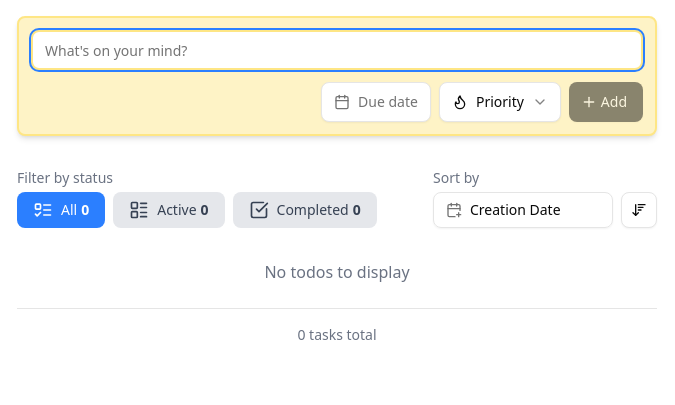
TodoContainer Component - Integration Tests › Filtering UI and Logic › should filter to show only active todos when Active button is clicked
The width and height of the screenshot is (675, 405).
Step 1. Type "Active Todo Item" into the field with placeholder "What's on your mind?" → (337, 50), box [31,30,643,70]
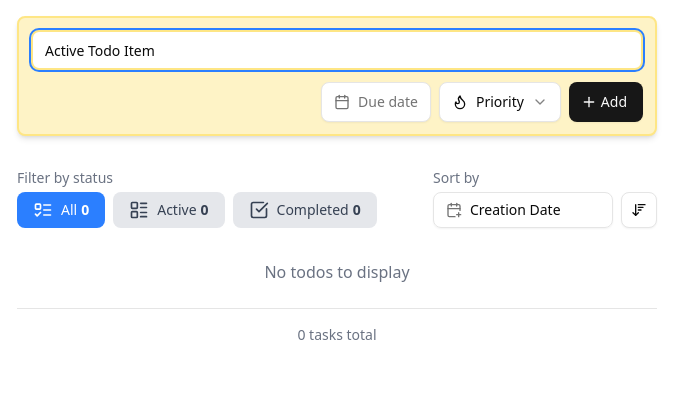
Step 2. Click the button "Add" → (606, 102), box [569,82,643,122]
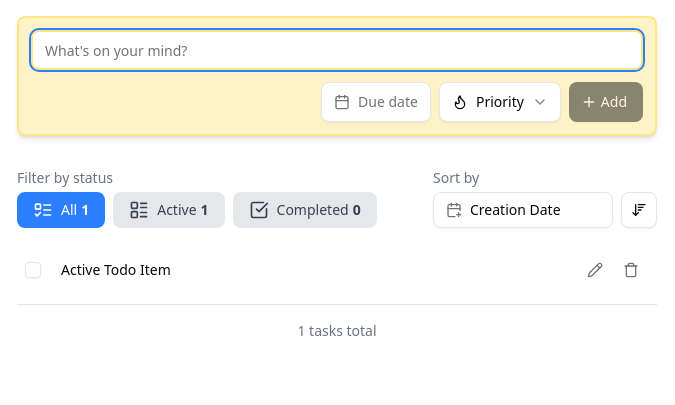
Expected: the text "Active Todo Item" is shown, [61,260,171,280]
Step 3. Type "Completed Todo Item" into the field with placeholder "What's on your mind?" → (337, 50), box [31,30,643,70]
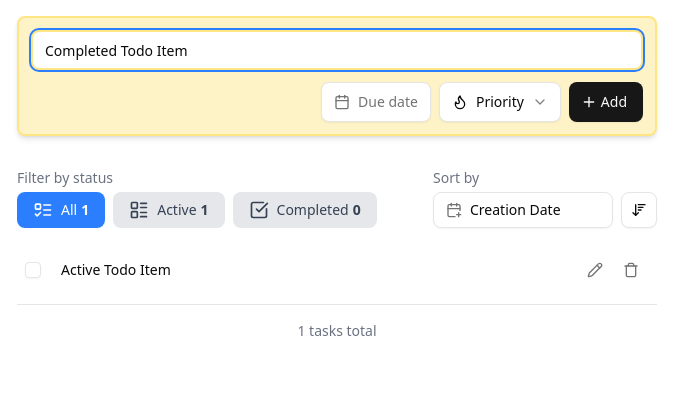
Step 4. Click the button "Add" → (606, 102), box [569,82,643,122]
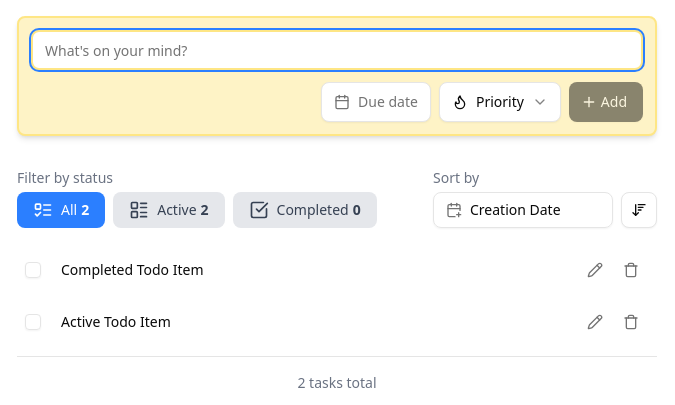
Step 5. Click the checkbox named "Mark \"Completed Todo Item\" as complete" → (33, 270), box [25,262,41,278]
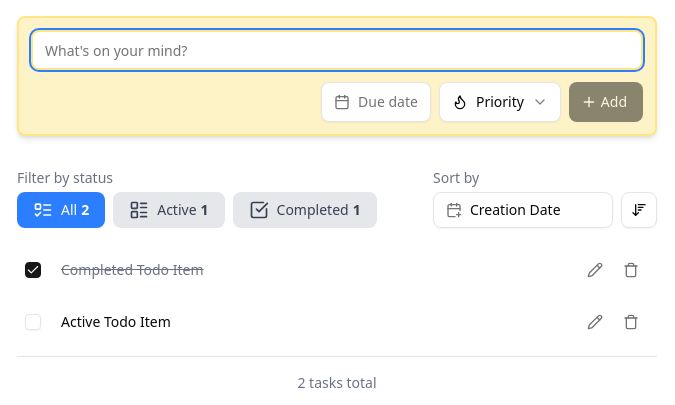
Expected: the checkbox named "Mark \"Completed Todo Item\" as incomplete" has attribute data-state="checked", [25,262,41,278]
Step 6. Click the button with aria-label "show active todos" → (169, 210), box [113,192,225,228]
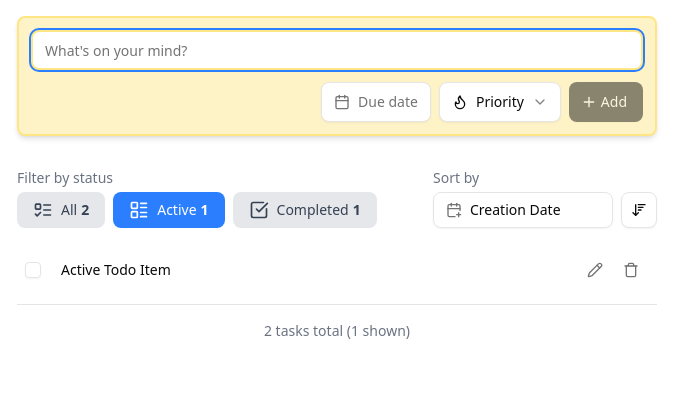
Expected: the text "Active Todo Item" is shown, [61,260,171,280]
Expected: the button "Completed Todo Item" is gone
